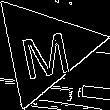M_N: (16, 19, 72, 78)
